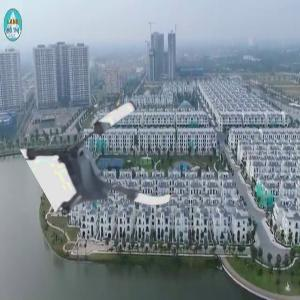drone: (43, 108, 172, 237)
